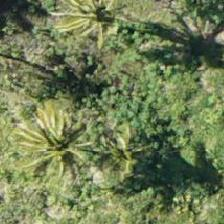coconut_tree: (19, 102, 109, 192), (44, 0, 134, 54)
